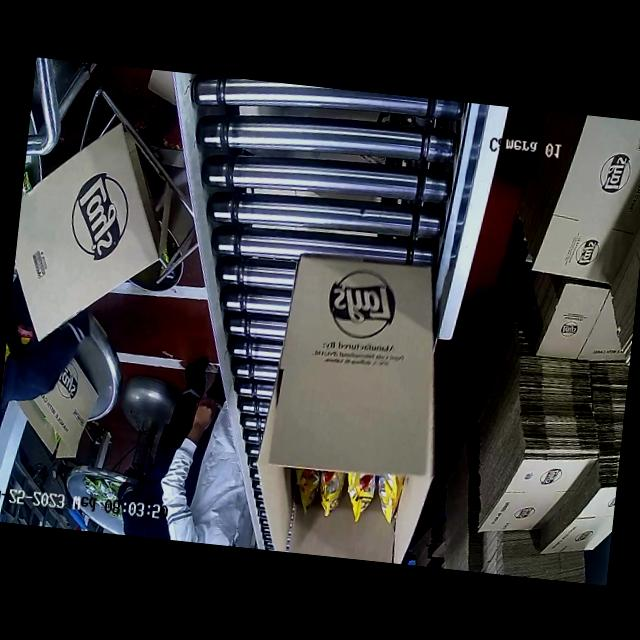salted: (308, 470, 408, 540)
